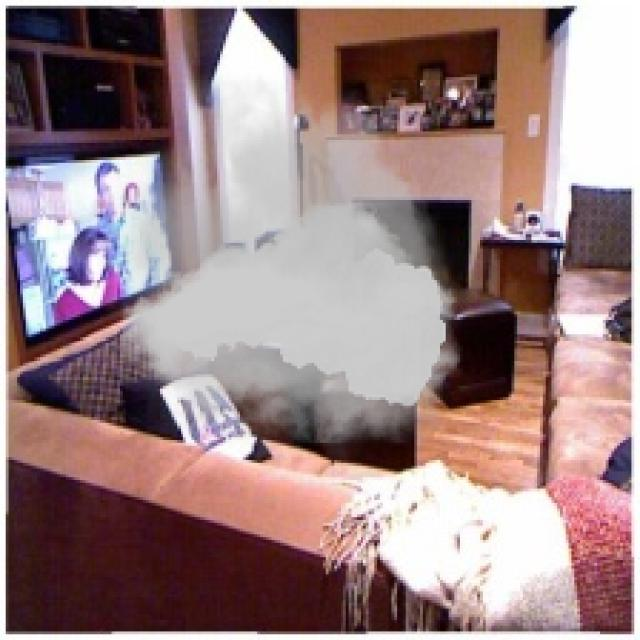smoke: (97, 52, 472, 477)
